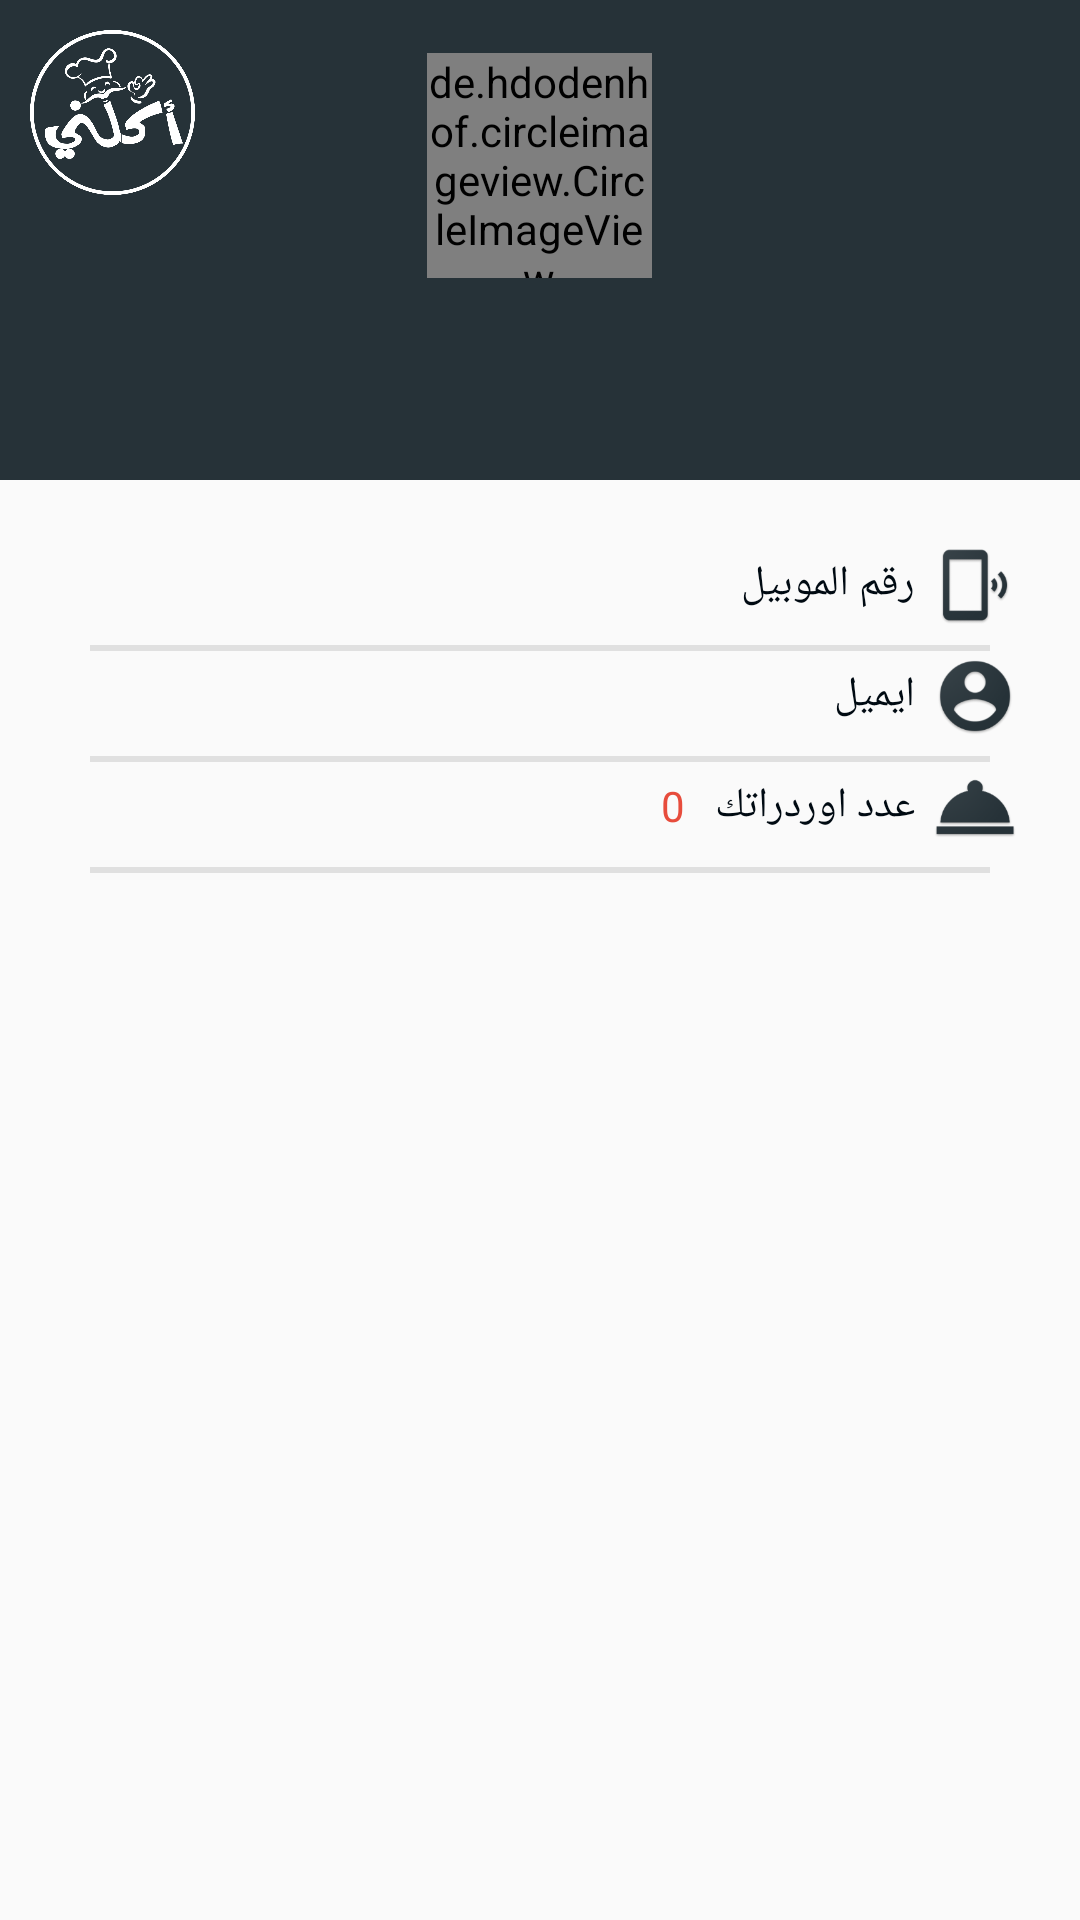

Named icons in this screenshot (1080px×1920px) and their bounding boxes, detection(x1, y1, x2, y2):
numorder: detection(936, 780, 1014, 836)
phonenum: detection(942, 549, 1008, 622)
